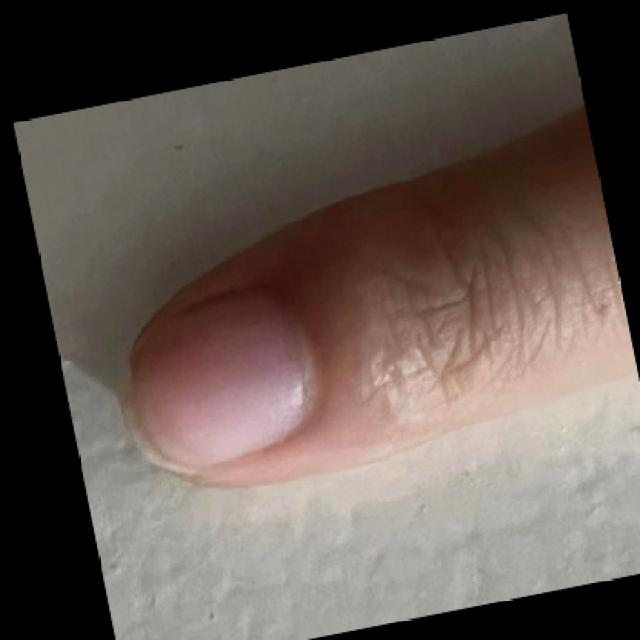Nail: (117, 295, 309, 471)
